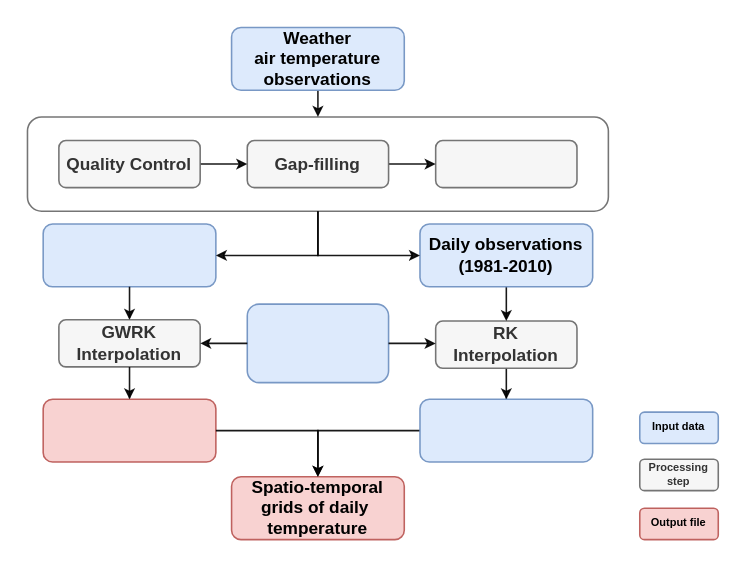
The diagram is 746 pixels wide and 568 high, and some of its shapes have lost their labels. Each missing label, with the centre of its shape:
"Homogenization" belongs at point (505, 163).
"Monthly Normals (1981-2010)" belongs at point (129, 254).
"Spatial grids of air temperature predictors" belongs at point (317, 343).
"Spatial grids of Daily Anonamlies" belongs at point (505, 430).
"Spatial grids of Monthly Normal" belongs at point (129, 430).
